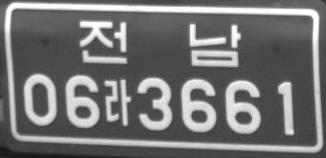0: (22, 72, 58, 125)
1: (270, 80, 305, 135)
3: (137, 76, 172, 129)
6: (224, 78, 262, 133), (64, 73, 101, 128), (181, 77, 217, 133)
라: (103, 78, 131, 125)
전남_D: (79, 19, 240, 68)
